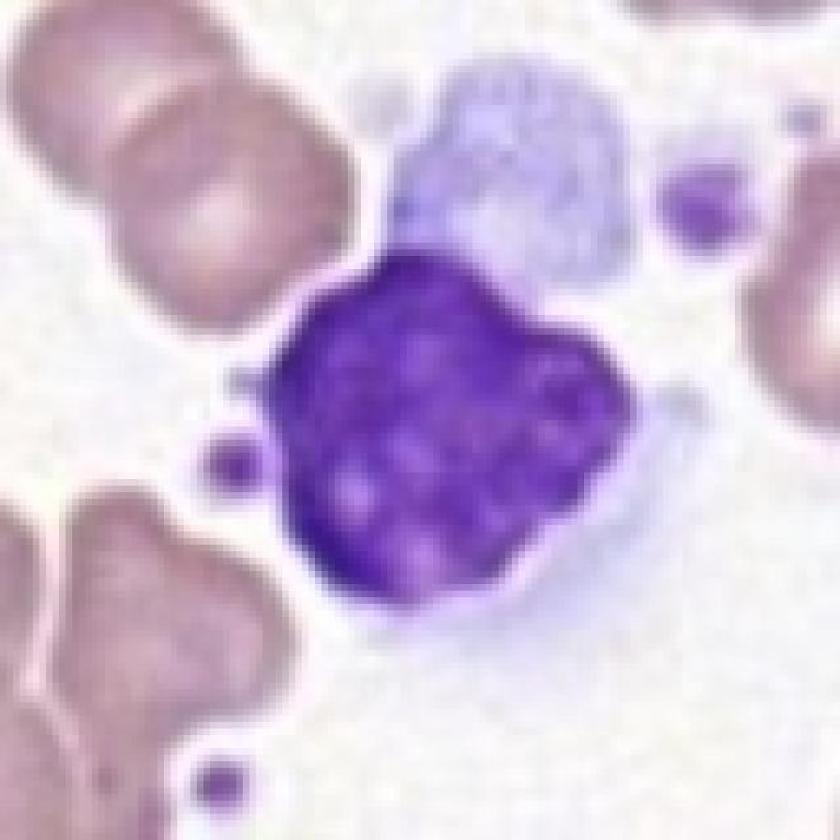lymphocyte: (244, 43, 720, 685)
